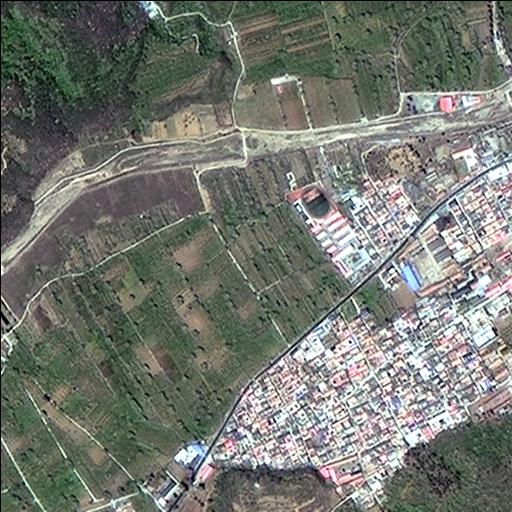school: (286, 177, 376, 290)
